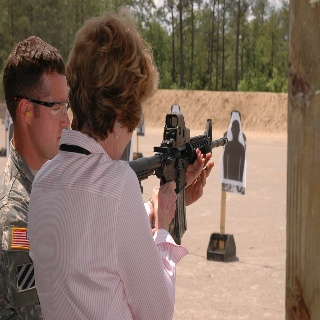rifle: (127, 103, 229, 245)
